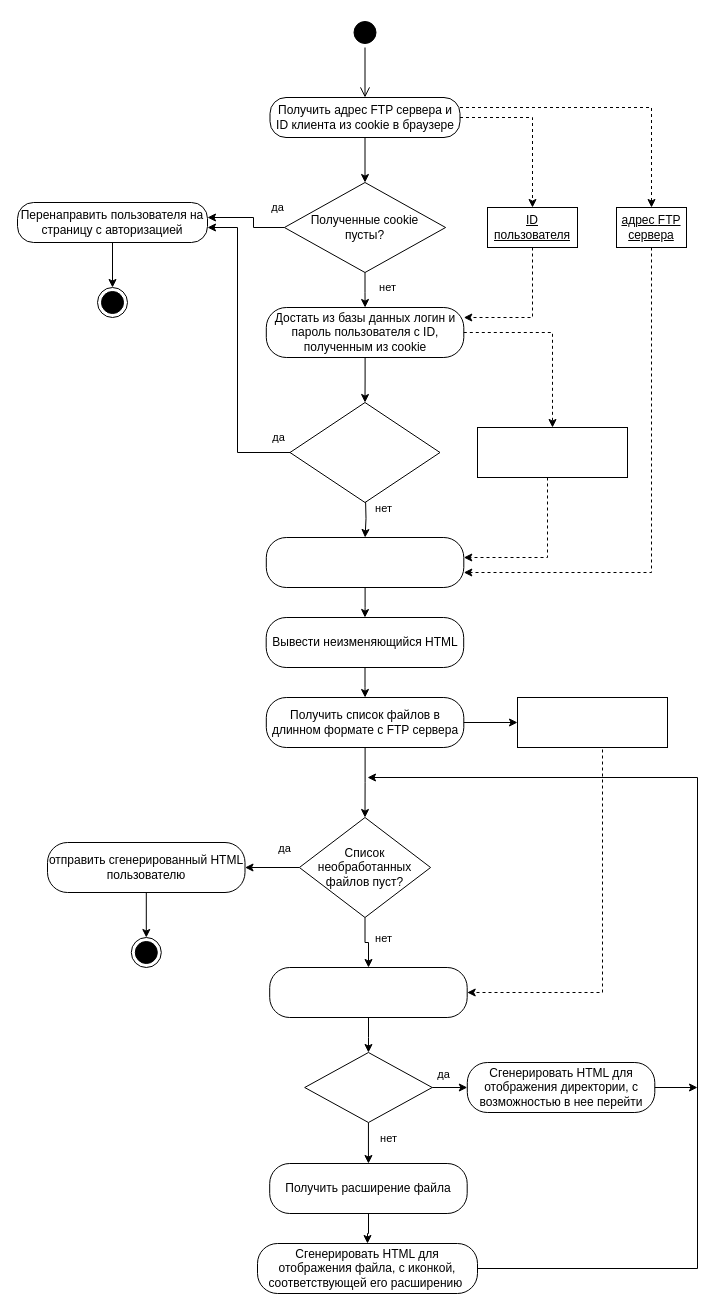
Some shapes in this 723 by 1311 pixel diagram are drawn without their labels. The shapes that lost their labels are listed below. From the top down, each one's centre as x and y in pixels, then its label:
At [364,452]: "Полученные данные пусты?".
At [552,452]: "Авторизационные данные пользователя (логин и пароль)".
At [364,562]: "Авторизоваться на FTP сервере".
At [592,722]: "Список файлов".
At [368,992]: "Выбрать необработанный файл".
At [368,1087]: "это директория?".
